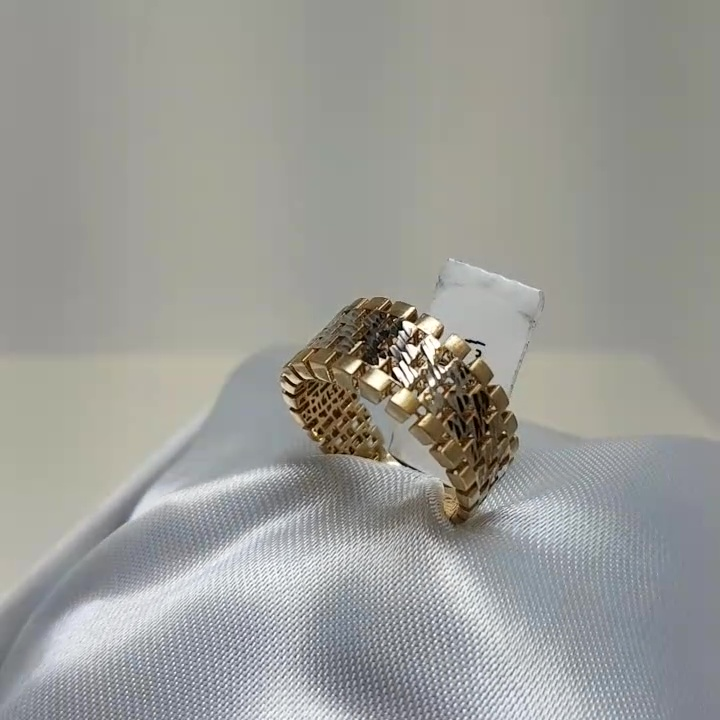Ring 1: (263, 280, 546, 541)
